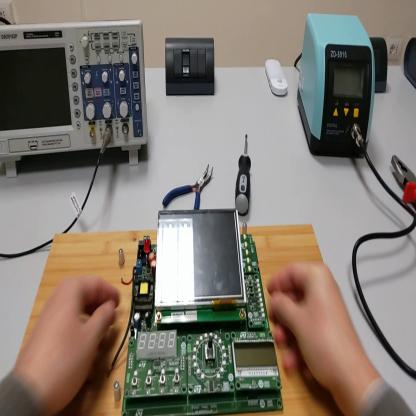hand: (21, 271, 123, 415), (267, 261, 361, 415)
low voltage board: (109, 209, 284, 416)
oscilloscope: (2, 18, 148, 185)
pliers: (162, 161, 214, 210), (391, 154, 416, 213)
screwdriver-: (236, 131, 253, 216)
socket: (371, 35, 388, 97), (403, 32, 416, 89)
welder station: (295, 10, 377, 164)
working area: (11, 225, 334, 412)
